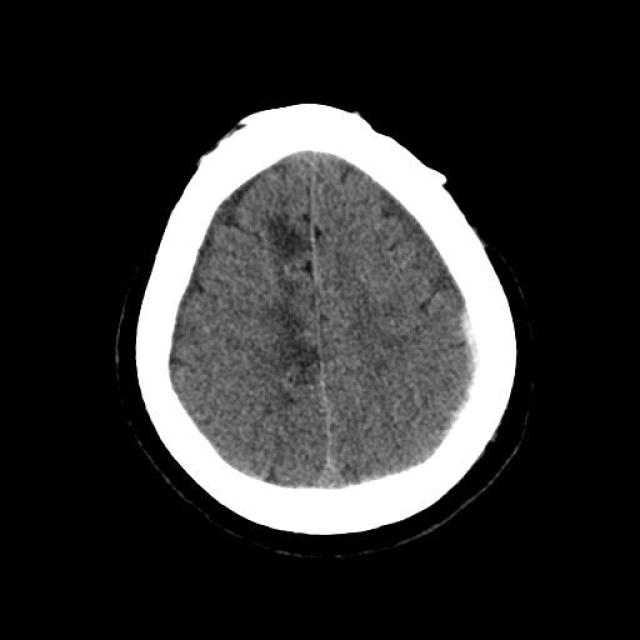Subdural: (395, 304, 504, 484)
